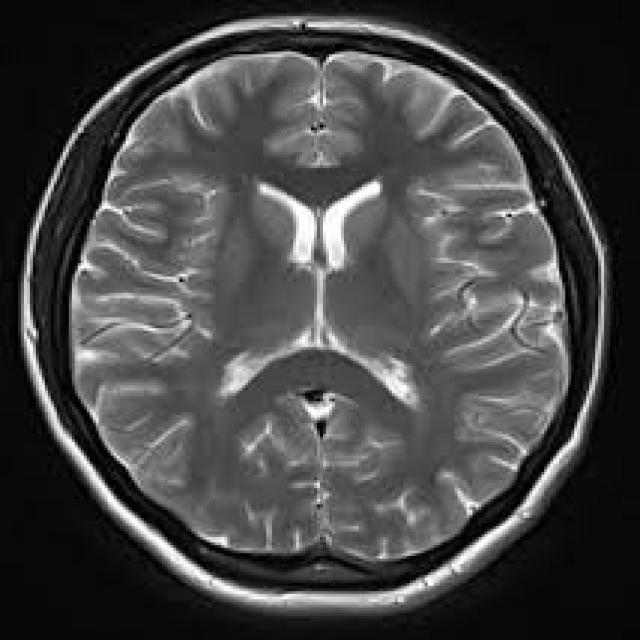No_Tumor: (21, 16, 609, 611)
